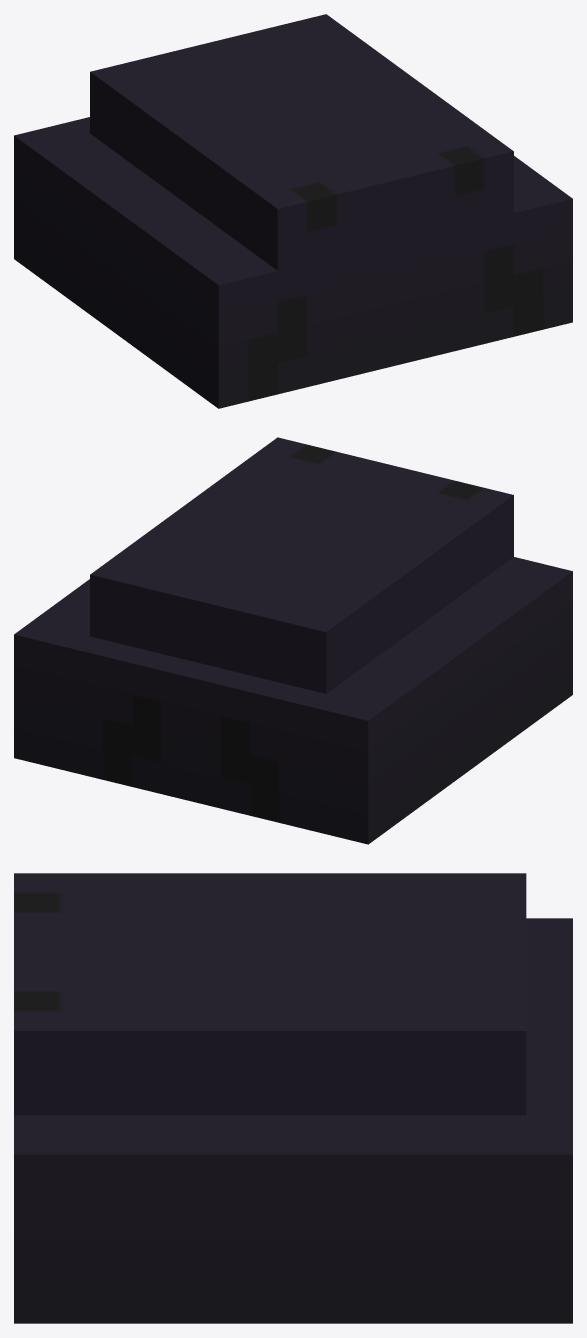
Rendered from Spine078.fbx.
3 views of the same model, one above another, from view 1: azimuth 30°, elevation 25°; view 2: azimuth 150°, elevation 25°; view 3: azimuth 270°, elevation 25° (orthographic). The views are drawn at different scales.
Parts seen in each view (by area): view 1: Spine078; view 2: Spine078; view 3: Spine078.
Part boxes in pixels (x1,y1,x2,y2): Spine078: (14, 14, 572, 408); Spine078: (14, 437, 572, 844); Spine078: (14, 873, 572, 1323).
Size of the model in its own units: 12 by 6 by 12.
